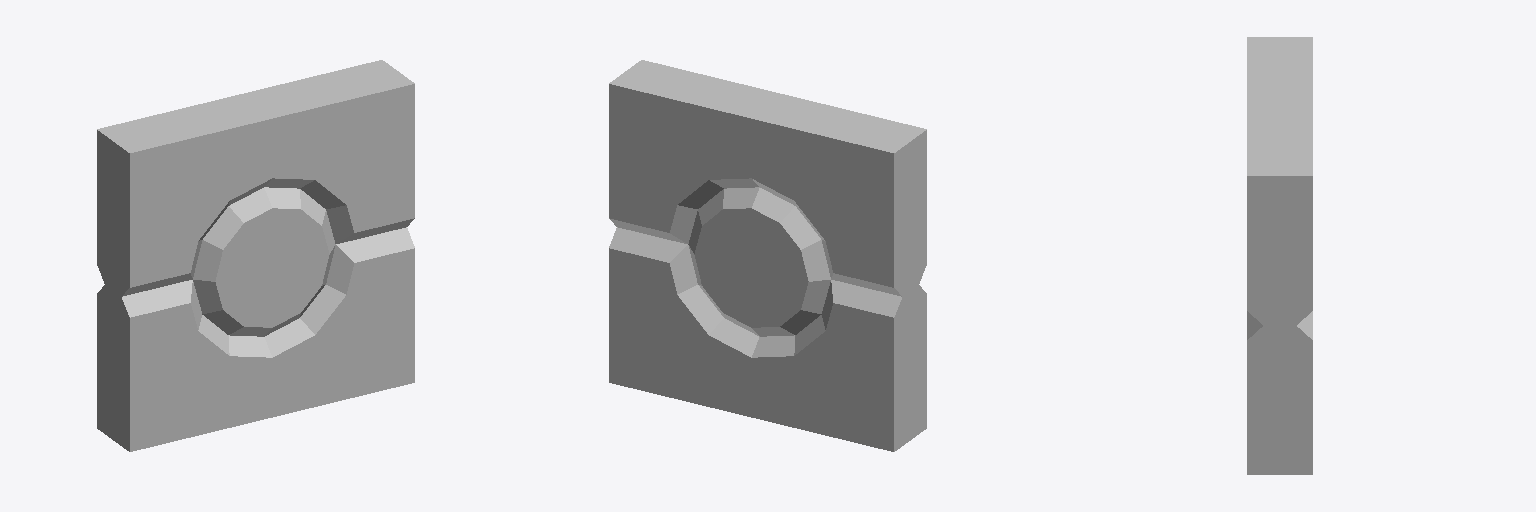
The model's file is 2_wall_etched_side_circle.obj.
The picture shows the model from 3 angles: view 1: azimuth 30°, elevation 25°; view 2: azimuth 150°, elevation 25°; view 3: azimuth 270°, elevation 25°; orthographic projection.
Parts seen in each view (by area): view 1: object1; view 2: object1; view 3: object1.
Part boxes in pixels (bbox=[...]): object1: bbox=[97, 60, 414, 451]; object1: bbox=[609, 60, 926, 451]; object1: bbox=[1247, 37, 1312, 474].
Size of the model in its own units: 1 by 1 by 0.2.